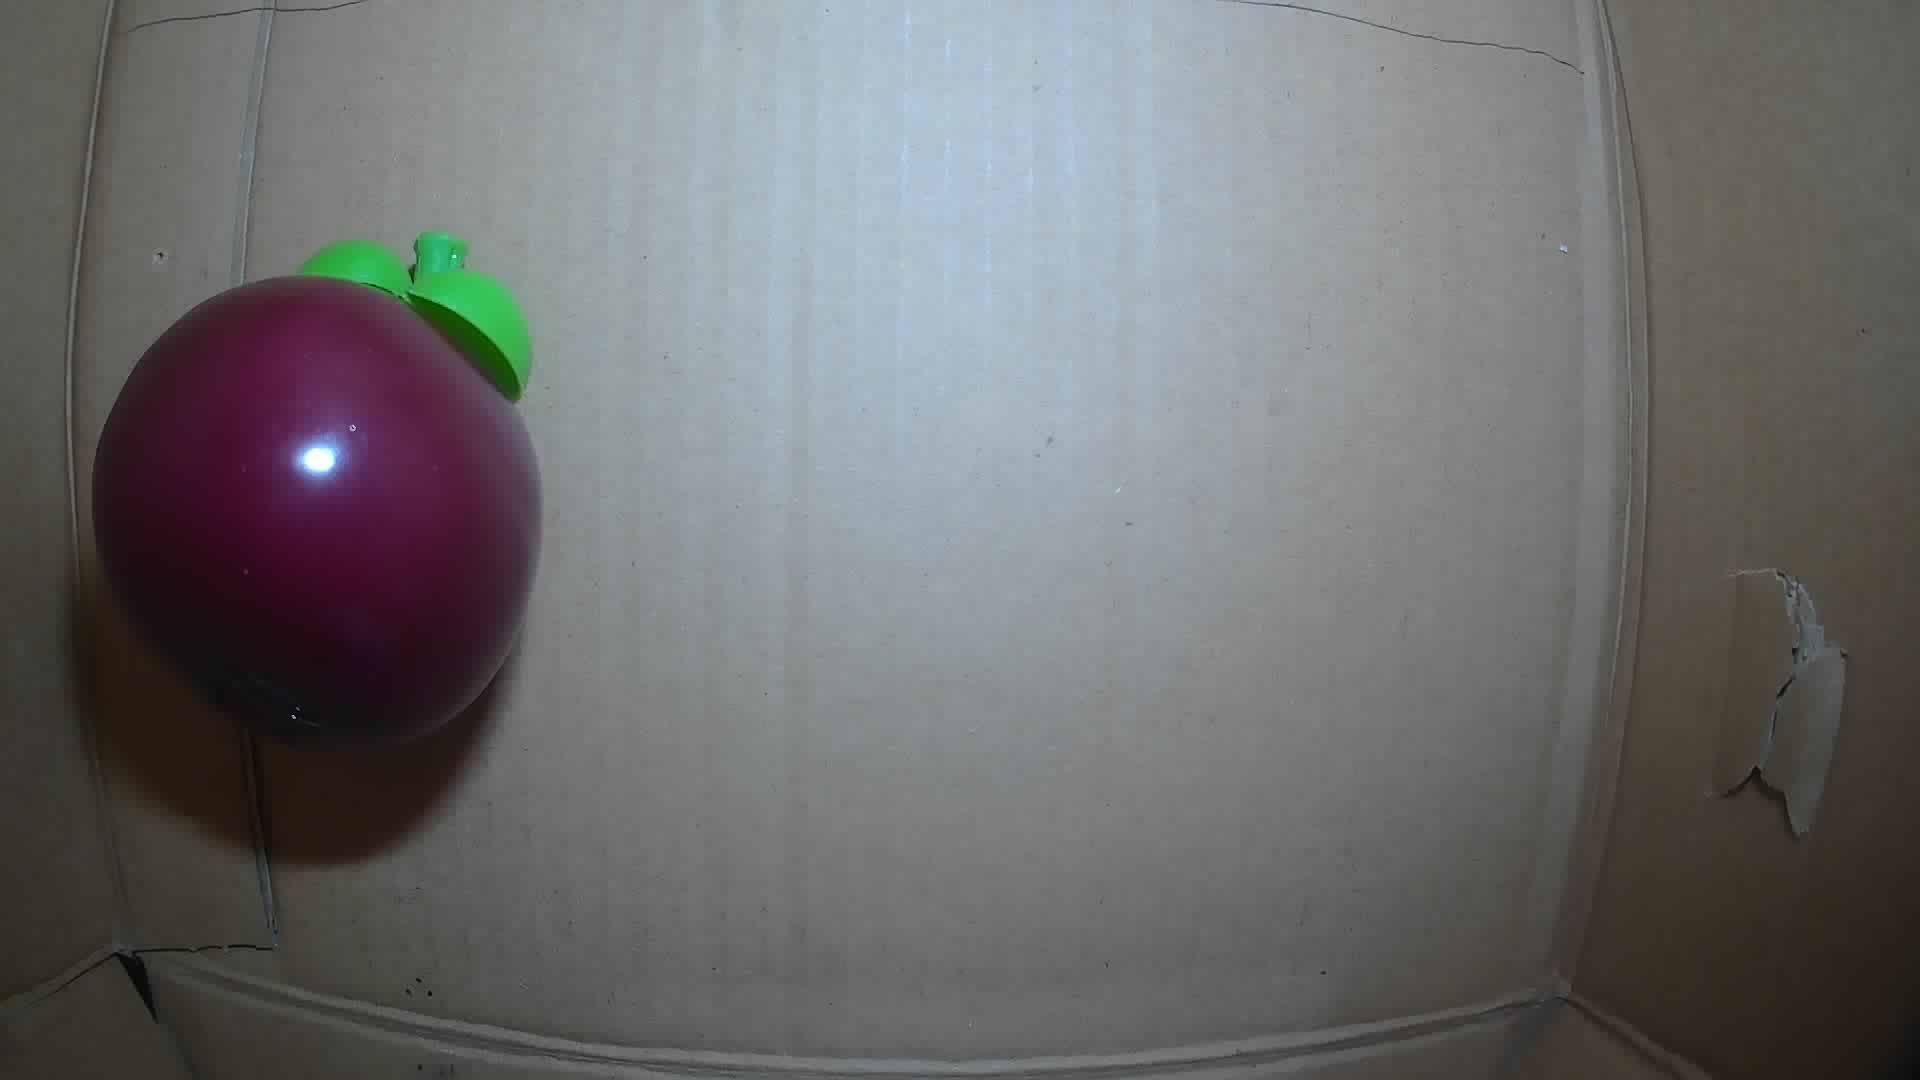mangosteen: (94, 228, 545, 754)
